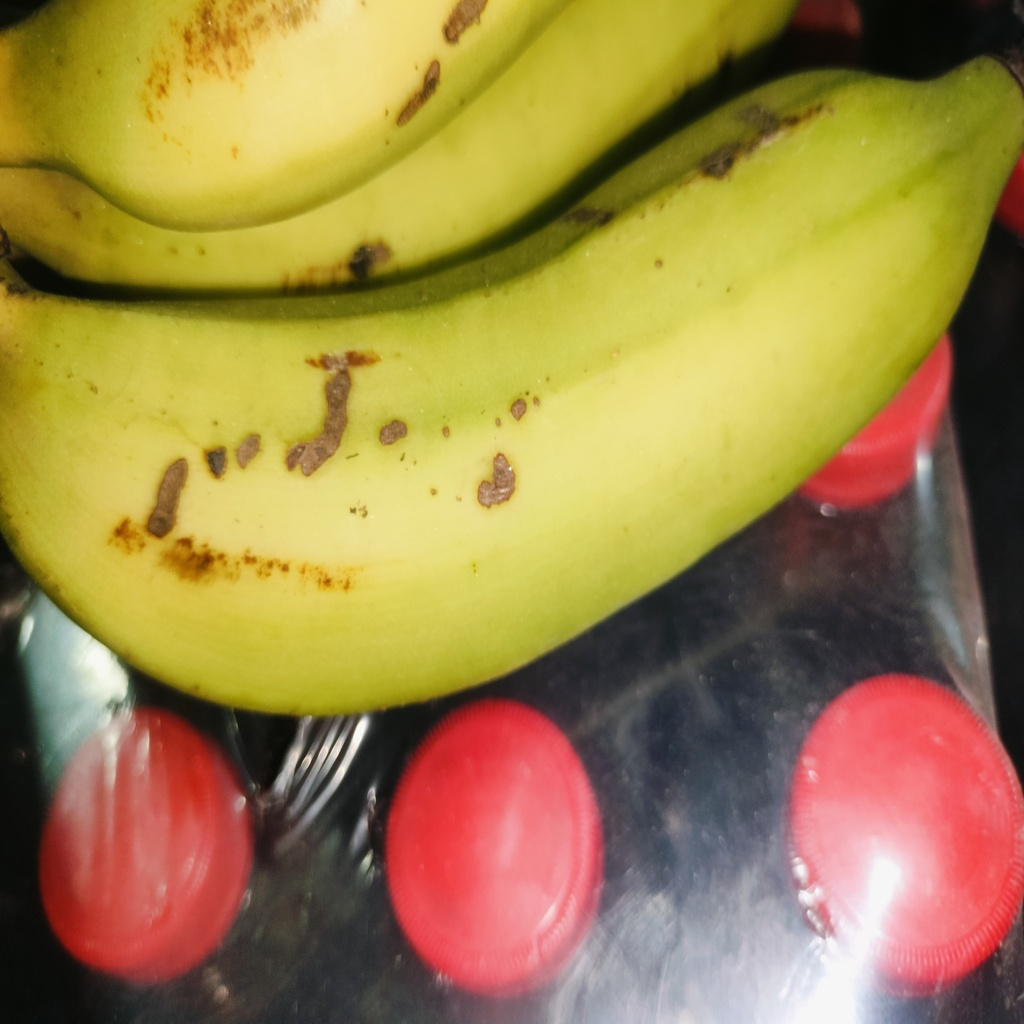unhealthy: (7, 74, 1013, 709)
